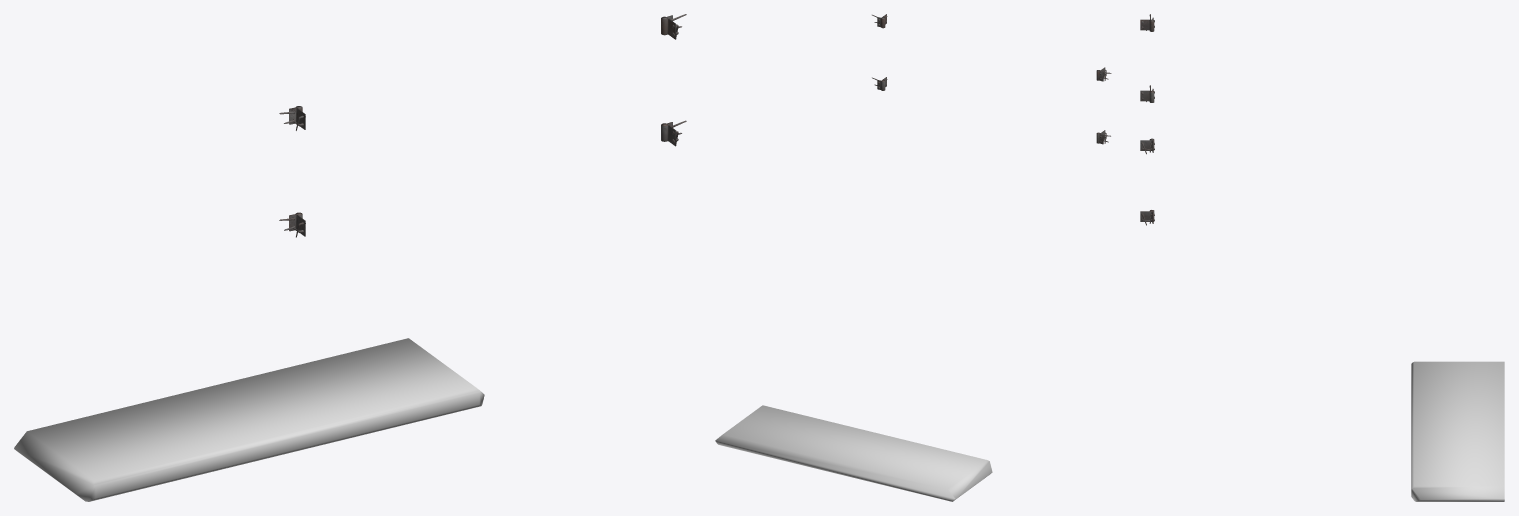
File: SM_Wall_Window_B_P2_.fbx
The picture shows the model from 3 angles, left to right: view 1: azimuth 30°, elevation 25°; view 2: azimuth 150°, elevation 25°; view 3: azimuth 270°, elevation 25°; orthographic projection. The views are drawn at different scales.
Parts seen in each view (by area): view 1: SM_Wall_Window_B_P2__ConvexHulls, SM_Wall_Window_B_P2_; view 2: SM_Wall_Window_B_P2__ConvexHulls, SM_Wall_Window_B_P2_; view 3: SM_Wall_Window_B_P2__ConvexHulls, SM_Wall_Window_B_P2_.
Boxes of the visible parts, bbox=[...] form: SM_Wall_Window_B_P2__ConvexHulls: bbox=[14, 338, 484, 501]; SM_Wall_Window_B_P2_: bbox=[279, 14, 686, 237]; SM_Wall_Window_B_P2__ConvexHulls: bbox=[715, 405, 992, 501]; SM_Wall_Window_B_P2_: bbox=[872, 14, 1111, 144]; SM_Wall_Window_B_P2__ConvexHulls: bbox=[1411, 361, 1504, 501]; SM_Wall_Window_B_P2_: bbox=[1140, 14, 1154, 225].
Size of the model in its own units: 1.95 by 2.45 by 2.26.
